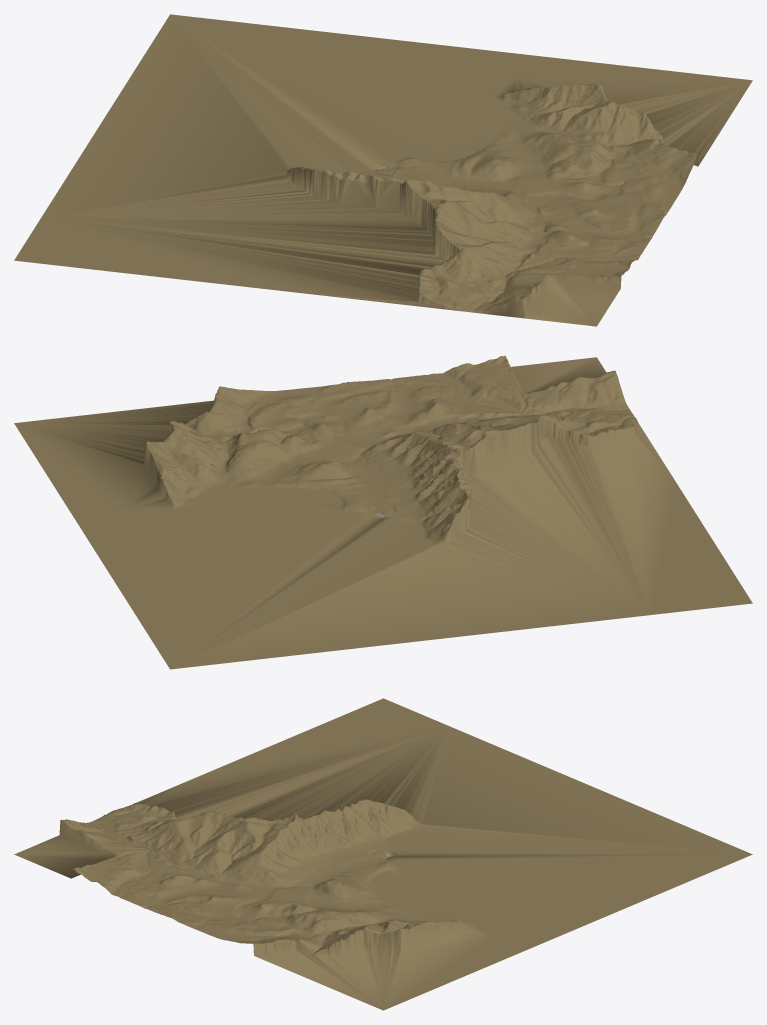
Rendered from level.glb.
3 renders of one model, top to bottom at view 1: azimuth 30°, elevation 25°; view 2: azimuth 150°, elevation 25°; view 3: azimuth 270°, elevation 25°, orthographic. The views are drawn at different scales.
Visible parts, largest first — view 1: X_terrain.far; view 2: X_terrain.far; view 3: X_terrain.far.
Boxes of the visible parts, bbox=[...] form: X_terrain.far: bbox=[14, 14, 752, 326]; X_terrain.far: bbox=[14, 355, 752, 669]; X_terrain.far: bbox=[14, 698, 752, 1010].
Size of the model in its own units: 45184 by 2076 by 45184.
